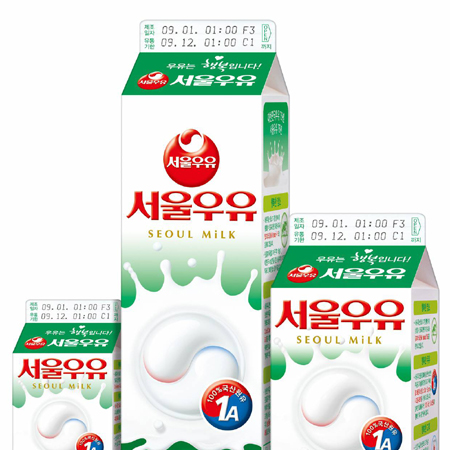milk: (121, 19, 290, 449), (270, 212, 438, 450), (12, 299, 122, 450)
